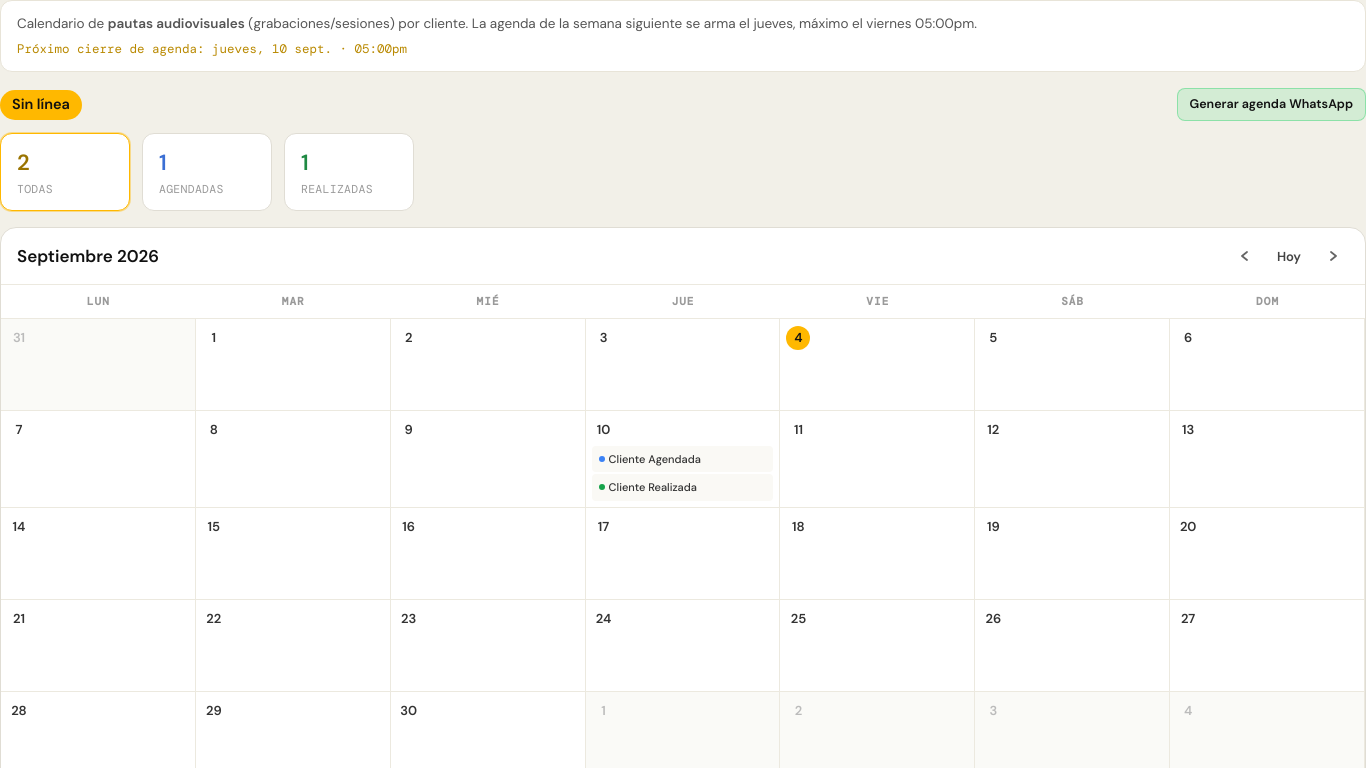
AudiovisualView — SummaryCard (Todas/Agendadas/Realizadas) filtra SOLO el calendario › click en "Agendadas" filtra el calendario a solo programadas, sin tocar la pestaña de la tabla
Expected: the button titled "Cliente Agendada" is shown, [592,446,774,472]
Click the button "1 Agendadas" at point(207, 172), box [142,133,272,211]
(page scrolled)
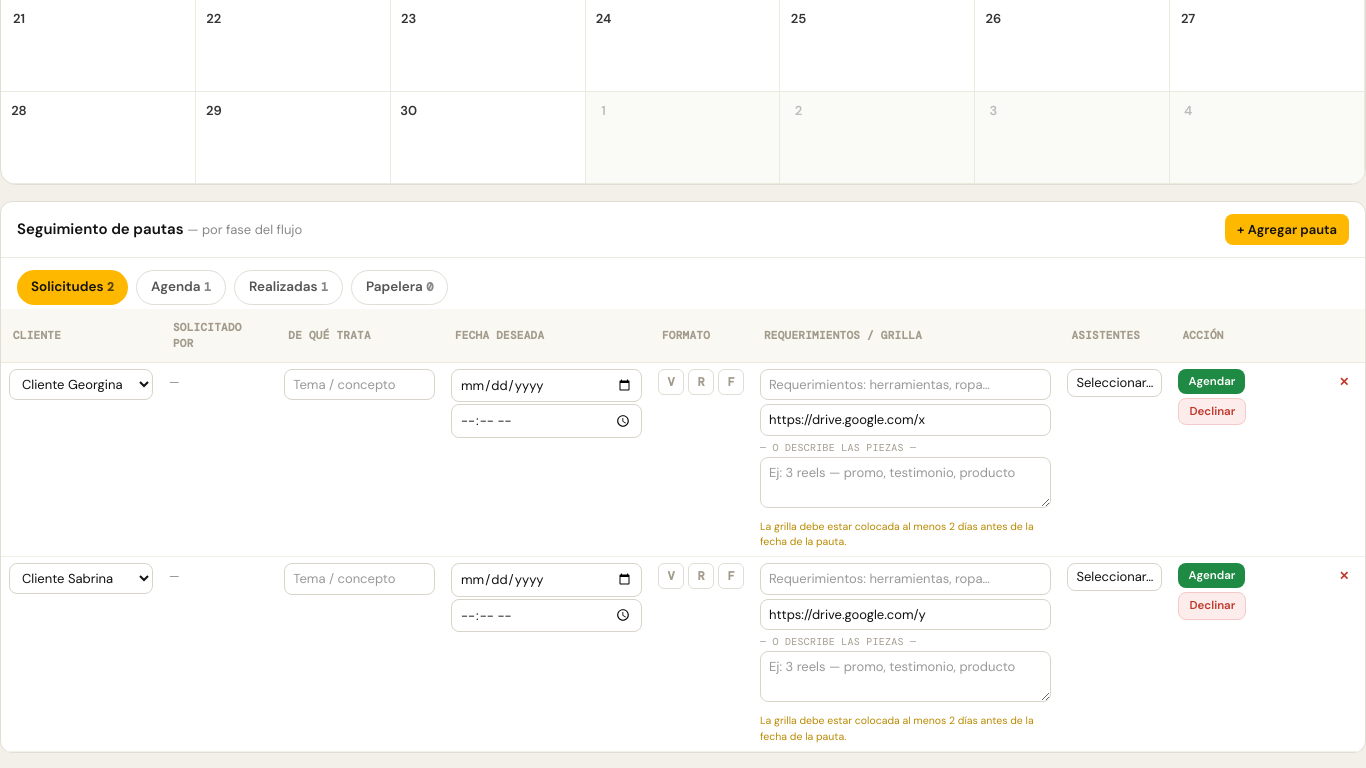
Expected: the 1st dropdown showing "Cliente Georgina" is shown, [9,368,153,400]
Result: the button titled "Cliente Realizada" is gone
